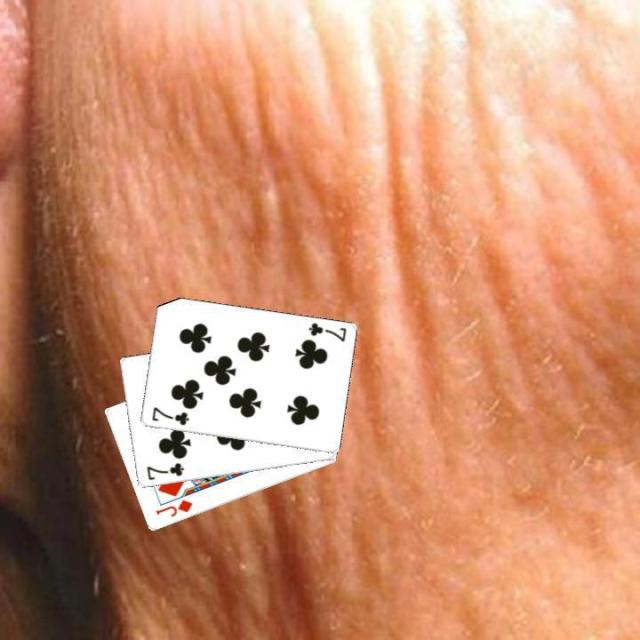7C: (148, 402, 190, 428), (142, 458, 186, 482), (304, 319, 348, 343)
JD: (151, 496, 195, 519)
